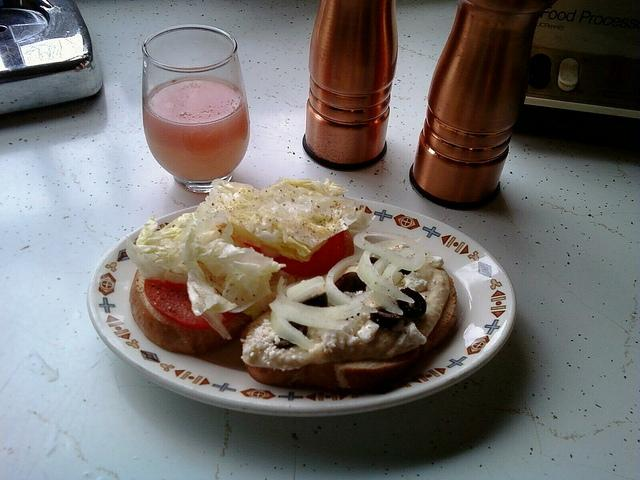lettuce: (185, 242, 238, 340)
onion: (277, 276, 374, 319), (357, 250, 415, 303), (326, 253, 363, 306), (271, 310, 314, 350), (374, 246, 416, 275), (382, 264, 398, 288)
tomato: (144, 279, 252, 332), (274, 228, 355, 278)
